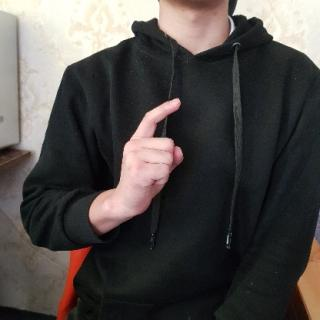RAA: (116, 92, 188, 237)
